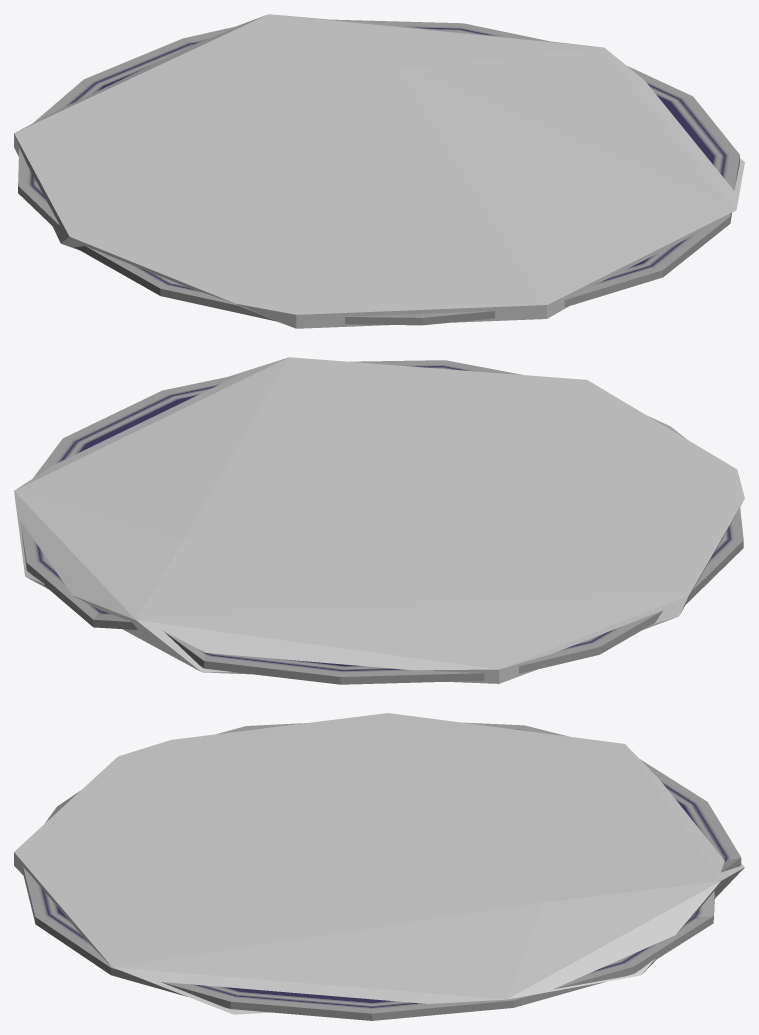
File: SM_Prop_Rug_03.fbx
3 renders of one model, top to bottom at view 1: azimuth 30°, elevation 25°; view 2: azimuth 150°, elevation 25°; view 3: azimuth 270°, elevation 25°, orthographic. The views are drawn at different scales.
Visible parts, largest first — view 1: SM_Prop_Rug_03_ConvexHulls, SM_Prop_Rug_03; view 2: SM_Prop_Rug_03_ConvexHulls, SM_Prop_Rug_03; view 3: SM_Prop_Rug_03_ConvexHulls, SM_Prop_Rug_03.
Part boxes in pixels (bbox=[...]): SM_Prop_Rug_03_ConvexHulls: bbox=[14, 14, 744, 328]; SM_Prop_Rug_03: bbox=[18, 19, 739, 325]; SM_Prop_Rug_03_ConvexHulls: bbox=[14, 357, 744, 683]; SM_Prop_Rug_03: bbox=[20, 360, 743, 684]; SM_Prop_Rug_03_ConvexHulls: bbox=[14, 713, 744, 1014]; SM_Prop_Rug_03: bbox=[23, 722, 741, 1020].
Bounding box in the file's own units: 289 × 301 × 10.5.
Materials: 2 (1 with a texture image).
